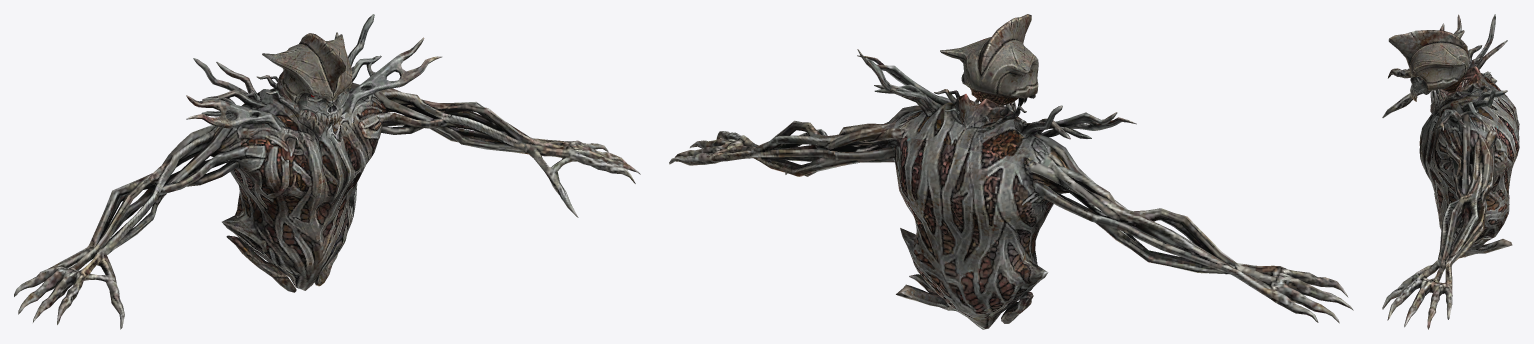
Rendered from Wraith.obj.
3 views of the same model, side by side, from view 1: azimuth 30°, elevation 25°; view 2: azimuth 150°, elevation 25°; view 3: azimuth 270°, elevation 25° (orthographic). The views are drawn at different scales.
Bounding box in the file's own units: 5.61 × 2.33 × 1.27.
Materials: 1 (1 with a texture image).
